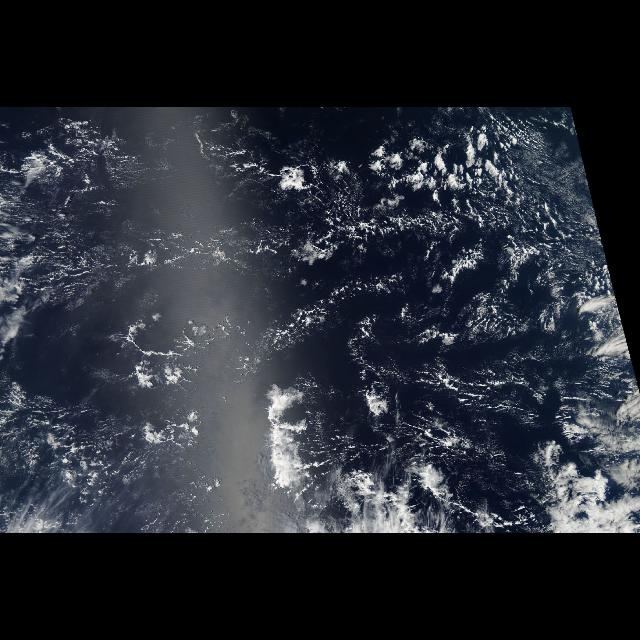Flower: (272, 136, 528, 242)
